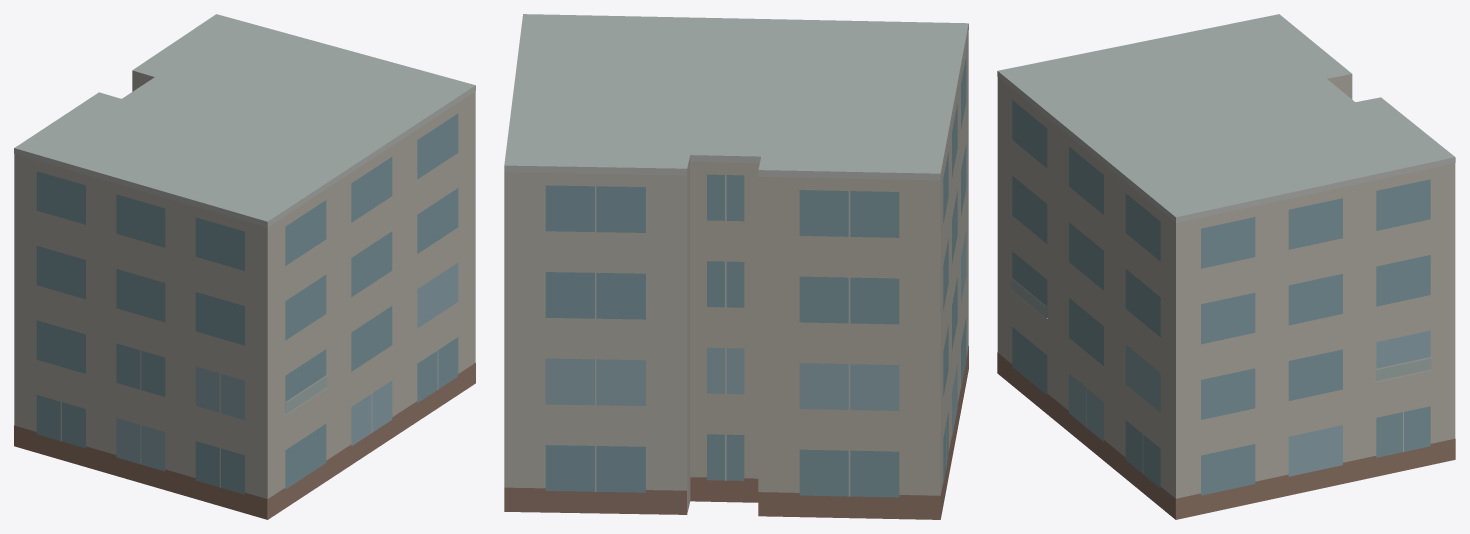
File: survey-upis-32736503.glb
3 renders of one model, left to right at view 1: azimuth 30°, elevation 25°; view 2: azimuth 150°, elevation 25°; view 3: azimuth 270°, elevation 25°, orthographic. The views are drawn at different scales.
Parts seen in each view (by area): view 1: survey-upis-32736503.tmp; view 2: survey-upis-32736503.tmp; view 3: survey-upis-32736503.tmp.
Boxes of the visible parts, x1=… form: survey-upis-32736503.tmp: x1=14, y1=14, x2=475, y2=519; survey-upis-32736503.tmp: x1=504, y1=14, x2=968, y2=519; survey-upis-32736503.tmp: x1=997, y1=14, x2=1455, y2=519.
Size of the model in its own units: 18.17 by 12.6 by 17.29.
